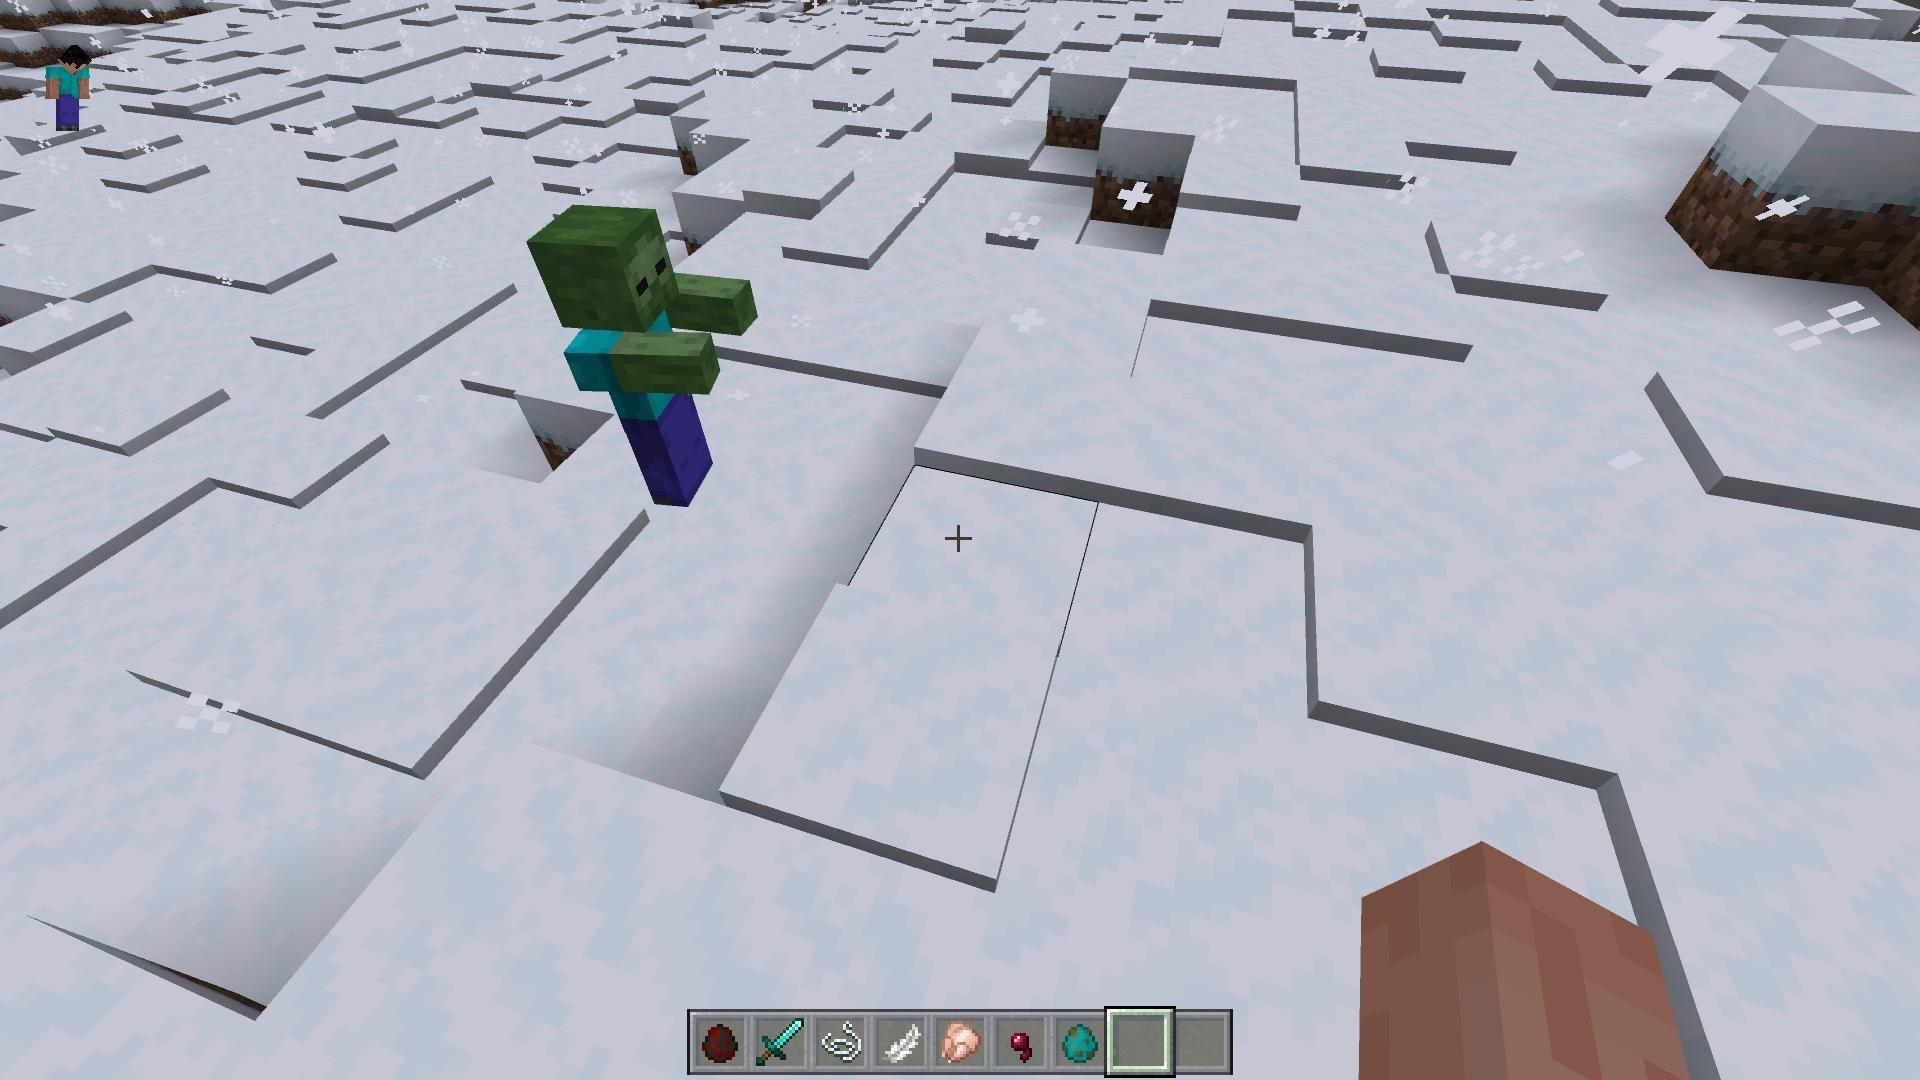zombie: (533, 200, 760, 513)
